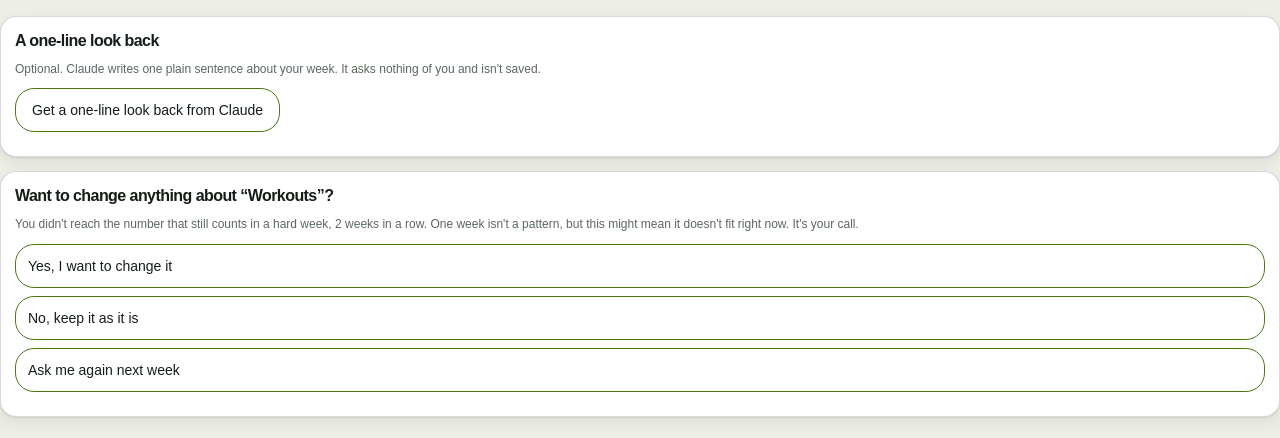
Test: layer 2: Claude's one-line look back › asks once on a tap, shows the line with who wrote it, and leaves nothing to answer beside it
Step 1. Click the button "Get a one-line look back from Claude" → x=148, y=110, box [15,88,280,132]
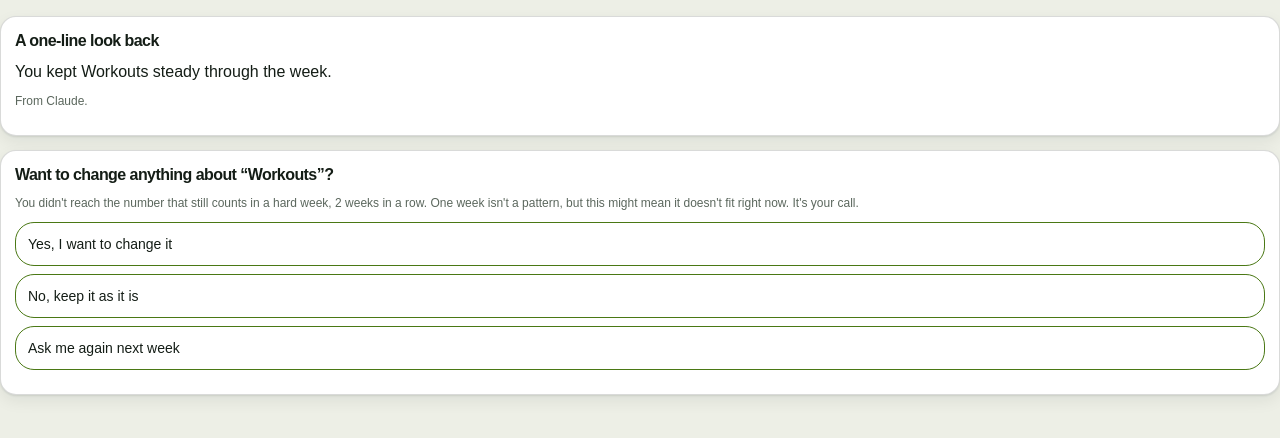
Expected: the text "You kept Workouts steady through the week." is shown, [15,63,332,80]
Expected: the text "From Claude." is shown, [15,94,88,108]
Expected: no buttons are shown
